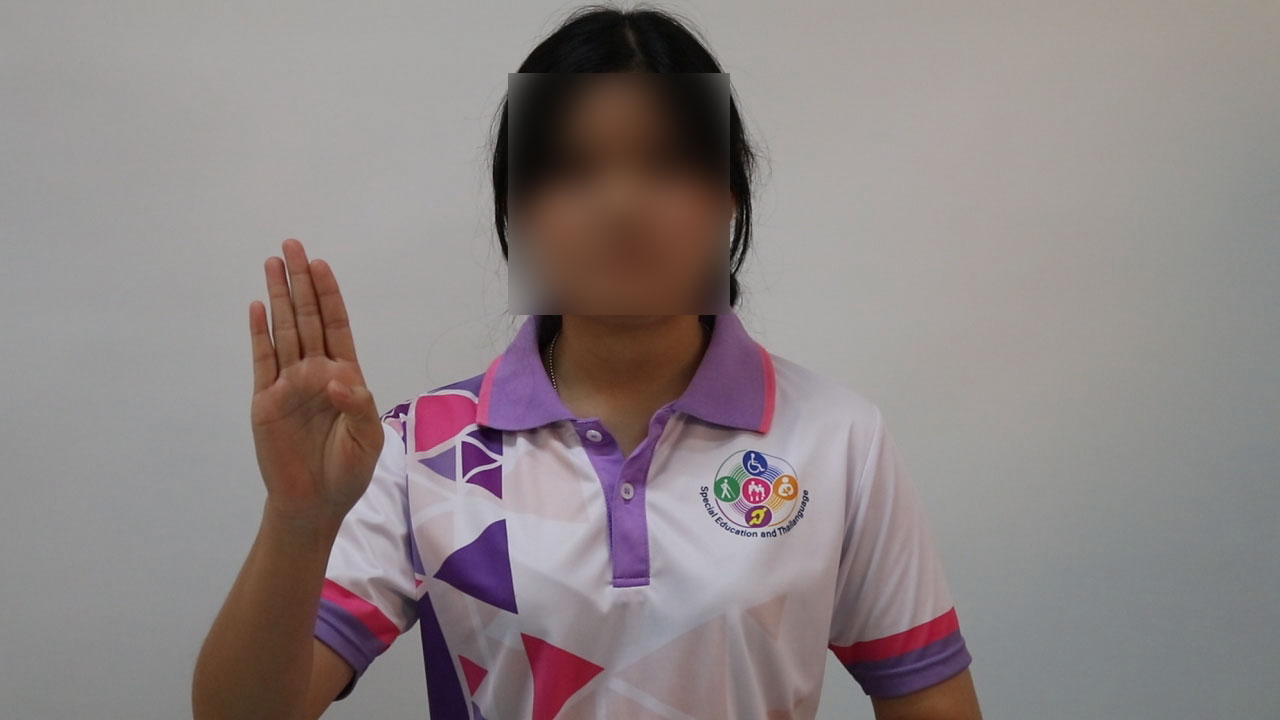bor: (214, 222, 403, 548)
